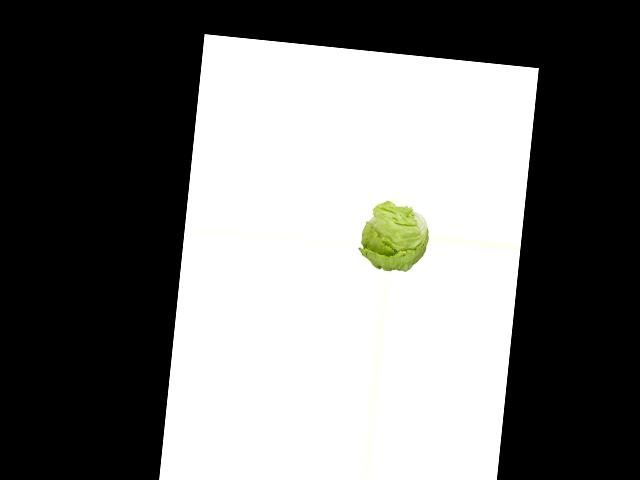lettuce: (357, 201, 433, 274)
